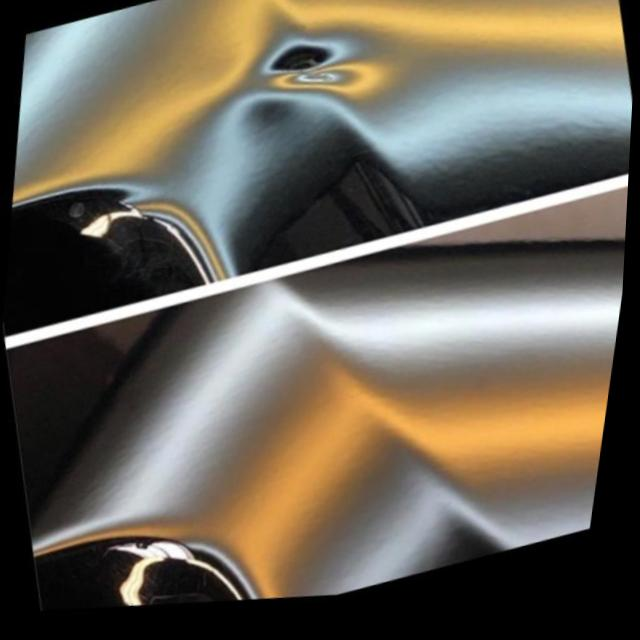Dent: (235, 0, 372, 131)
